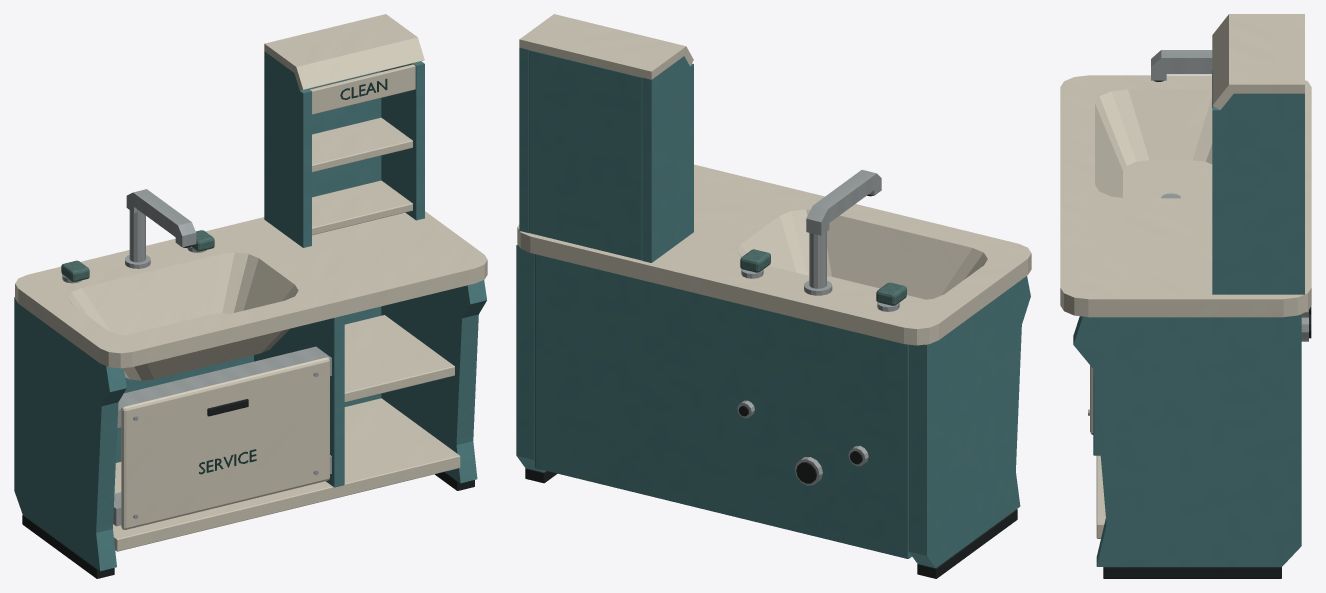
Rendered from AST-MED-002.glb.
The picture shows the model from 3 angles, left to right: view 1: azimuth 30°, elevation 25°; view 2: azimuth 150°, elevation 25°; view 3: azimuth 270°, elevation 25°; orthographic projection. The views are drawn at different scales.
Parts seen in each view (by area): view 1: EXPORT_continuous_shaped_basin_and_dry_work_rim, EXPORT_front_removable_service_cover, EXPORT_left_swept_basin_support_cheek, EXPORT_lower_service_and_supply_floor, EXPORT_right_swept_basin_support_cheek, EXPORT_clean_supply_inner_tower_cheek, EXPORT_clean_supply_shelter_cap, EXPORT_lower_clean_supply_shelf, EXPORT_clean_supply_outer_tower_cheek, EXPORT_basin_service_supply_divider, EXPORT_clean_supply_middle_shelf, EXPORT_clean_supply_lower_shelf (+7 smaller); view 2: EXPORT_rear_service_bearing_wall, EXPORT_continuous_shaped_basin_and_dry_work_rim, EXPORT_left_swept_basin_support_cheek, EXPORT_clean_supply_tower_back, EXPORT_clean_supply_inner_tower_cheek, EXPORT_clean_supply_shelter_cap, EXPORT_right_swept_basin_support_cheek, EXPORT_tap_forward_elbow, EXPORT_clean_supply_outer_tower_cheek, EXPORT_left_floor_isolation_shoe, EXPORT_tap_vertical_stem; view 3: EXPORT_right_swept_basin_support_cheek, EXPORT_continuous_shaped_basin_and_dry_work_rim, EXPORT_clean_supply_outer_tower_cheek, EXPORT_clean_supply_shelter_cap, EXPORT_right_floor_isolation_shoe, EXPORT_tap_forward_elbow, EXPORT_lower_service_and_supply_floor, EXPORT_basin_service_supply_divider.
Boxes of the visible parts, x1=… form: EXPORT_continuous_shaped_basin_and_dry_work_rim: x1=15, y1=211, x2=487, y2=380; EXPORT_front_removable_service_cover: x1=121, y1=357, x2=329, y2=529; EXPORT_left_swept_basin_support_cheek: x1=14, y1=297, x2=126, y2=571; EXPORT_lower_service_and_supply_floor: x1=113, y1=398, x2=460, y2=551; EXPORT_right_swept_basin_support_cheek: x1=381, y1=280, x2=486, y2=483; EXPORT_clean_supply_inner_tower_cheek: x1=264, y1=51, x2=311, y2=247; EXPORT_clean_supply_shelter_cap: x1=264, y1=14, x2=424, y2=90; EXPORT_lower_clean_supply_shelf: x1=344, y1=315, x2=454, y2=402; EXPORT_clean_supply_outer_tower_cheek: x1=381, y1=61, x2=424, y2=220; EXPORT_basin_service_supply_divider: x1=254, y1=315, x2=344, y2=487; EXPORT_clean_supply_middle_shelf: x1=312, y1=117, x2=412, y2=172; EXPORT_clean_supply_lower_shelf: x1=312, y1=180, x2=412, y2=235; EXPORT_rear_service_bearing_wall: x1=535, y1=254, x2=911, y2=558; EXPORT_continuous_shaped_basin_and_dry_work_rim: x1=517, y1=164, x2=1031, y2=345; EXPORT_left_swept_basin_support_cheek: x1=908, y1=276, x2=1030, y2=568; EXPORT_clean_supply_tower_back: x1=529, y1=50, x2=642, y2=260; EXPORT_clean_supply_inner_tower_cheek: x1=642, y1=56, x2=693, y2=262; EXPORT_clean_supply_shelter_cap: x1=519, y1=14, x2=693, y2=79; EXPORT_right_swept_basin_support_cheek: x1=516, y1=244, x2=545, y2=472; EXPORT_tap_forward_elbow: x1=806, y1=170, x2=881, y2=235; EXPORT_clean_supply_outer_tower_cheek: x1=519, y1=47, x2=528, y2=232; EXPORT_left_floor_isolation_shoe: x1=917, y1=509, x2=1017, y2=578; EXPORT_tap_vertical_stem: x1=809, y1=232, x2=826, y2=288; EXPORT_right_swept_basin_support_cheek: x1=1073, y1=314, x2=1301, y2=566; EXPORT_continuous_shaped_basin_and_dry_work_rim: x1=1060, y1=75, x2=1311, y2=317; EXPORT_clean_supply_outer_tower_cheek: x1=1212, y1=93, x2=1304, y2=294; EXPORT_clean_supply_shelter_cap: x1=1212, y1=14, x2=1304, y2=109; EXPORT_right_floor_isolation_shoe: x1=1103, y1=567, x2=1281, y2=578; EXPORT_tap_forward_elbow: x1=1151, y1=50, x2=1212, y2=80; EXPORT_lower_service_and_supply_floor: x1=1096, y1=455, x2=1105, y2=538; EXPORT_basin_service_supply_divider: x1=1093, y1=371, x2=1100, y2=455.
Size of the model in its own units: 1.6 by 1.64 by 0.76.
Materials: 6 (6 with a texture image).
